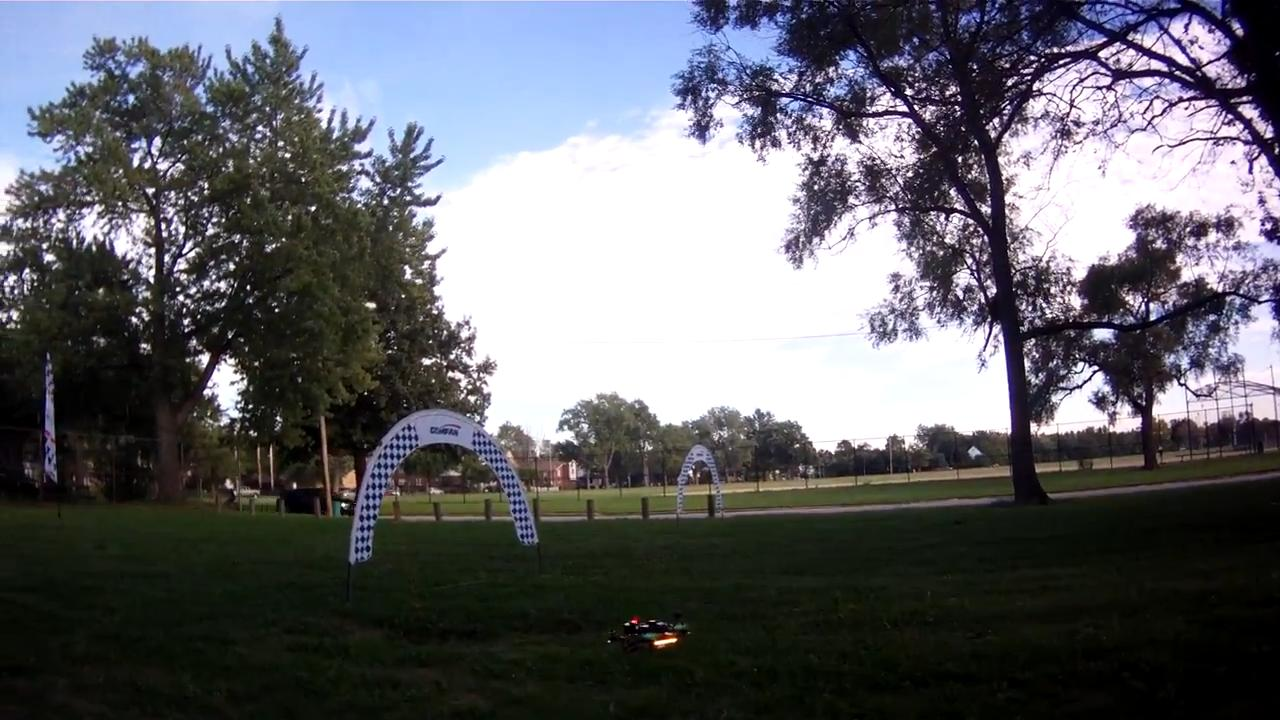gate: (347, 407, 541, 565), (675, 441, 725, 523)
